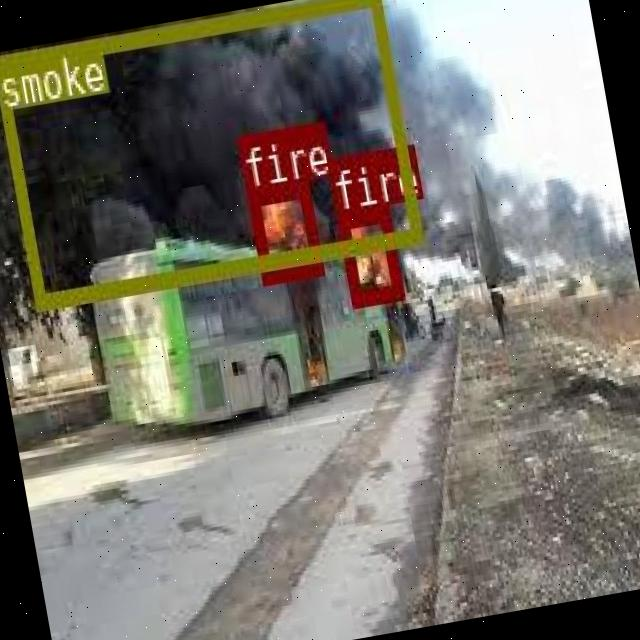fire: (244, 178, 322, 282), (335, 202, 403, 304)
smoke: (0, 0, 420, 308)
